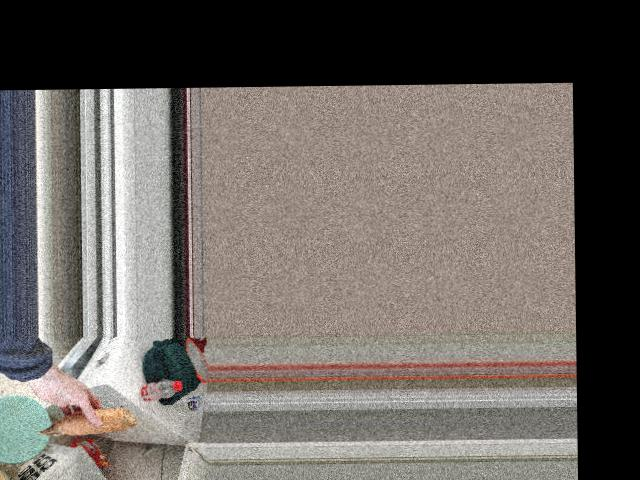sweet_potato: (38, 411, 140, 433)
